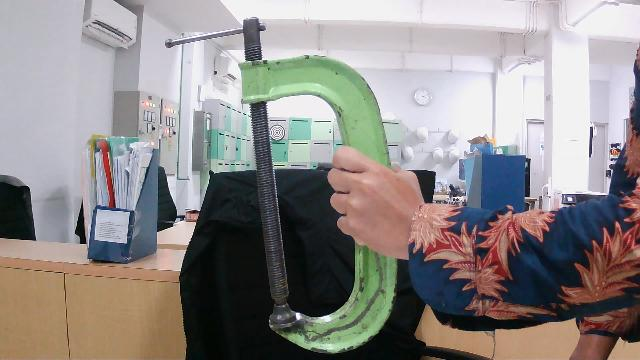tekiro_c_clamp: (161, 12, 405, 359)
